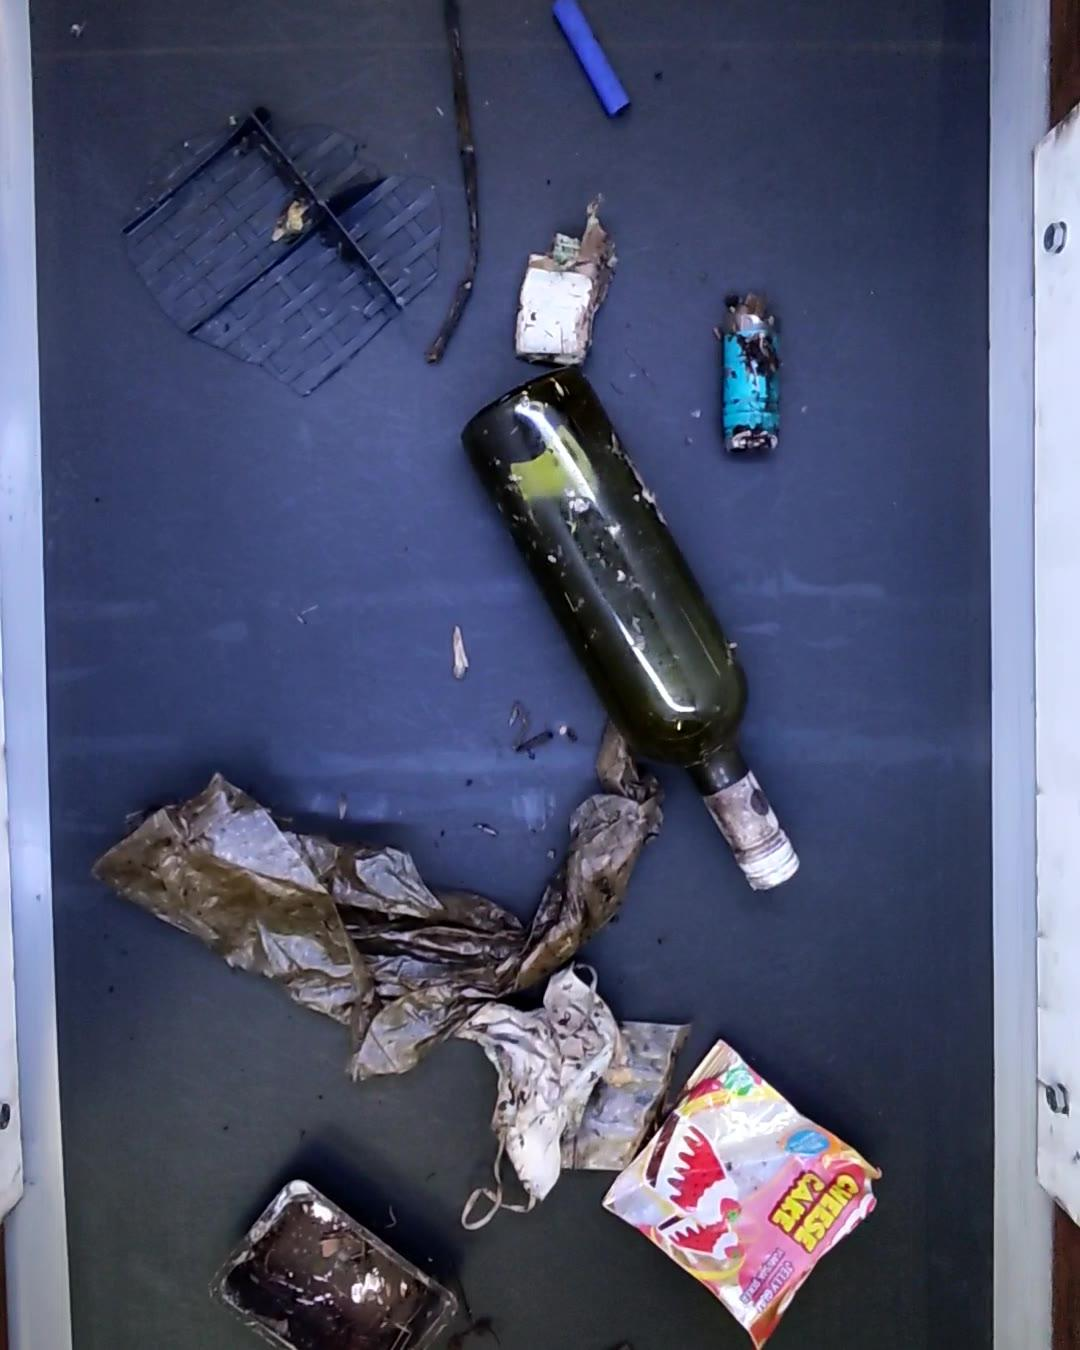Plastic folies of stukken daarvan 2.5- 50 cm: (96, 719, 666, 1065), (554, 1014, 700, 1177)
Snoep snack en chips verpakkingen: (601, 1044, 892, 1350)
Voedselverpakkingen: (204, 1173, 469, 1350)
